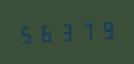five: (18, 22, 36, 45)
nine: (94, 18, 112, 41)
seven: (75, 19, 93, 42)
six: (37, 21, 55, 44)
three: (56, 20, 74, 43)
